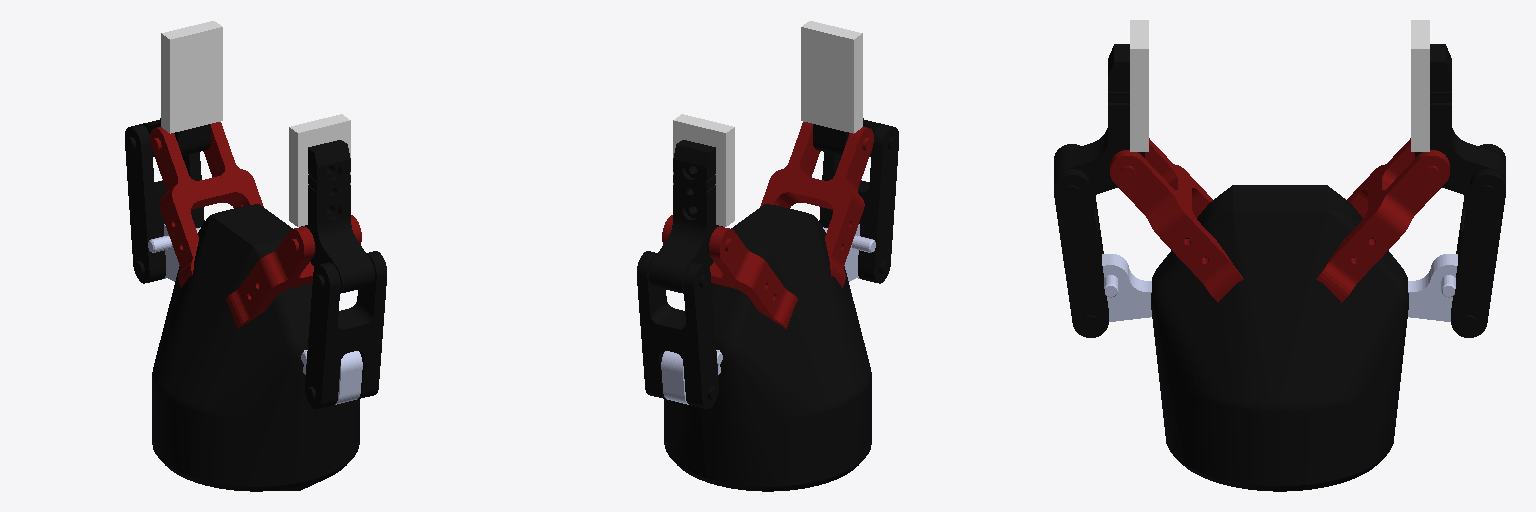
The robot description file, URDF, robot "robotiq_arg2f_85_model":
<?xml version="1.0" ?>
<!-- =================================================================================== -->
<!-- |    This document was autogenerated by xacro from robotiq_arg2f_85_model.xacro   | -->
<!-- |    EDITING THIS FILE BY HAND IS NOT RECOMMENDED                                 | -->
<!-- =================================================================================== -->
<robot name="robotiq_arg2f_85_model">
  <link name="robotiq_arg2f_base_link">
    <inertial>
      <origin rpy="0 0 0" xyz="8.625E-08 -4.6583E-06 0.03145"/>
      <mass value="0.22652"/>
      <inertia ixx="0.00020005" ixy="-4.2442E-10" ixz="-2.9069E-10" iyy="0.00017832" iyz="-3.4402E-08" izz="0.00013478"/>
    </inertial>
    <visual>
      <origin rpy="0 0 0" xyz="0 0 0"/>
      <geometry>
        <mesh filename="../meshes/visual/robotiq_arg2f_85_base_link.obj"/>
      </geometry>
      <material name="">
        <color rgba="0.1 0.1 0.1 1"/>
      </material>
    </visual>
    <collision>
      <origin rpy="0 0 0" xyz="0 0 0"/>
      <geometry>
        <mesh filename="../meshes/collision/robotiq_arg2f_base_link.obj"/>
      </geometry>
    </collision>
  </link>
  <link name="left_outer_knuckle">
    <inertial>
        <origin xyz="-0.000200000000003065 0.0199435877845359 0.0292245259211331" rpy="0 0 0" />
        <mass value="0.00853198276973456" />
        <inertia ixx="2.89328108496468E-06" ixy="-1.57935047237397E-19" ixz="-1.93980378593255E-19" iyy="1.86719750325683E-06" iyz="-1.21858577871576E-06" izz="1.21905238907251E-06" />
        </inertial>
    <visual>
      <origin rpy="0 0 0" xyz="0 0 0"/>
      <geometry>
        <mesh filename="../meshes/visual/robotiq_arg2f_85_outer_knuckle.obj" scale="0.001 0.001 0.001"/>
      </geometry>
      <material name="">
        <color rgba="0.792156862745098 0.819607843137255 0.933333333333333 1"/>
      </material>
    </visual>
    <collision>
      <origin rpy="0 0 0" xyz="0 0 0"/>
      <geometry>
        <mesh filename="../meshes/collision/robotiq_arg2f_85_outer_knuckle.obj" scale="0.001 0.001 0.001"/>
      </geometry>
    </collision>
  </link>
  <link name="left_outer_finger">
    <inertial>
        <origin xyz="0.00030115855001899 0.0373907951953854 -0.0208027427000385" rpy="0 0 0" />
        <mass value="0.022614240507152" />
        <inertia ixx="1.52518312458174E-05" ixy="9.76583423954399E-10" ixz="-5.43838577022588E-10" iyy="6.17694243867776E-06" iyz="6.78636130740228E-06" izz="1.16494917907219E-05" />
        </inertial>
    <visual>
      <origin rpy="0 0 0" xyz="0 0 0"/>
      <geometry>
        <mesh filename="../meshes/visual/robotiq_arg2f_85_outer_finger.obj" scale="0.001 0.001 0.001"/>
      </geometry>
      <material name="">
        <color rgba="0.1 0.1 0.1 1"/>
      </material>
    </visual>
    <collision>
      <origin rpy="0 0 0" xyz="0 0 0"/>
      <geometry>
        <mesh filename="../meshes/collision/robotiq_arg2f_85_outer_finger.obj" scale="0.001 0.001 0.001"/>
      </geometry>
    </collision>
  </link>
  <link name="left_inner_finger">
    <inertial>
        <origin xyz="0.000299999999999317 0.0160078233491243 -0.0136945669206257" rpy="0 0 0" />
        <mass value="0.0104003125914103" />
        <inertia ixx="2.71909453810972E-06" ixy="1.35402465472579E-21" ixz="-7.1817349065269E-22" iyy="7.69100314106116E-07" iyz="6.74715432769696E-07" izz="2.30315190420171E-06" />
        </inertial>
    <visual>
      <origin rpy="0 0 0" xyz="0 0 0"/>
      <geometry>
        <mesh filename="../meshes/visual/robotiq_arg2f_85_inner_finger.obj" scale="0.001 0.001 0.001"/>
      </geometry>
      <material name="">
        <color rgba="0.1 0.1 0.1 0.5"/>
      </material>
    </visual>
    <collision>
      <origin rpy="0 0 0" xyz="0 0 0"/>
      <geometry>
        <mesh filename="../meshes/collision/robotiq_arg2f_85_inner_finger.obj" scale="0.001 0.001 0.001"/>
      </geometry>
    </collision>
  </link>
  <link name="left_inner_finger_pad">
    <visual>
      <origin rpy="0 0 0" xyz="0 0 0"/>
      <geometry>
        <box size="0.022 0.00635 0.0375"/>
      </geometry>
      <material name="">
        <color rgba="0.9 0.9 0.9 1"/>
      </material>
    </visual>
    <collision>
      <origin rpy="0 0 0" xyz="0 0 0"/>
      <geometry>
        <box size="0.022 0.00635 0.0375"/>
      </geometry>
      <material name="">
        <color rgba="0.9 0.0 0.0 1"/>
      </material>
    </collision>
  </link>
  <link name="left_inner_knuckle">
    <inertial>
        <origin xyz="0.000123011831763771 0.0507850843201817 0.00103968640075166" rpy="0 0 0" />
       <mass value="0.0271177346495152" />
        <inertia ixx="2.61910379223783E-05" ixy="-2.43616858946494E-07" ixz="-6.37789906117123E-09" iyy="2.8270243746167E-06" iyz="-5.37200748039765E-07" izz="2.83695868220296E-05" />
        </inertial>
    <visual>
      <origin rpy="0 0 0" xyz="0 0 0"/>
      <geometry>
        <mesh filename="../meshes/visual/robotiq_arg2f_85_inner_knuckle.obj" scale="0.001 0.001 0.001"/>
      </geometry>
      <material name="">
        <color rgba="0.5 0.1 0.1 0.5"/>
      </material>
    </visual>
    <!--
    <collision>
      <origin rpy="0 0 0" xyz="0 0 0"/>
      <geometry>
        <mesh filename="../meshes/collision/robotiq_arg2f_85_inner_knuckle.obj" scale="0.001 0.001 0.001"/>
      </geometry>
    </collision>
    -->
  </link>
  <link name="right_outer_knuckle">
    <inertial>
        <origin xyz="-0.000200000000003065 0.0199435877845359 0.0292245259211331" rpy="0 0 0" />
        <mass value="0.00853198276973456" />
        <inertia ixx="2.89328108496468E-06" ixy="-1.57935047237397E-19" ixz="-1.93980378593255E-19" iyy="1.86719750325683E-06" iyz="-1.21858577871576E-06" izz="1.21905238907251E-06" />
        </inertial>
    <visual>
      <origin rpy="0 0 0" xyz="0 0 0"/>
      <geometry>
        <mesh filename="../meshes/visual/robotiq_arg2f_85_outer_knuckle.obj" scale="0.001 0.001 0.001"/>
      </geometry>
      <material name="">
        <color rgba="0.792156862745098 0.819607843137255 0.933333333333333 1"/>
      </material>
    </visual>
    <collision>
      <origin rpy="0 0 0" xyz="0 0 0"/>
      <geometry>
        <mesh filename="../meshes/collision/robotiq_arg2f_85_outer_knuckle.obj" scale="0.001 0.001 0.001"/>
      </geometry>
    </collision>
  </link>
  <link name="right_outer_finger">
    <inertial>
        <origin xyz="0.00030115855001899 0.0373907951953854 -0.0208027427000385" rpy="0 0 0" />
        <mass value="0.022614240507152" />
        <inertia ixx="1.52518312458174E-05" ixy="9.76583423954399E-10" ixz="-5.43838577022588E-10" iyy="6.17694243867776E-06" iyz="6.78636130740228E-06" izz="1.16494917907219E-05" />
        </inertial>
    <visual>
      <origin rpy="0 0 0" xyz="0 0 0"/>
      <geometry>
        <mesh filename="../meshes/visual/robotiq_arg2f_85_outer_finger.obj" scale="0.001 0.001 0.001"/>
      </geometry>
      <material name="">
        <color rgba="0.1 0.1 0.1 1"/>
      </material>
    </visual>
    <collision>
      <origin rpy="0 0 0" xyz="0 0 0"/>
      <geometry>
        <mesh filename="../meshes/collision/robotiq_arg2f_85_outer_finger.obj" scale="0.001 0.001 0.001"/>
      </geometry>
    </collision>
  </link>
  <link name="right_inner_finger">
    <inertial>
        <origin xyz="0.000299999999999317 0.0160078233491243 -0.0136945669206257" rpy="0 0 0" />
        <mass value="0.0104003125914103" />
        <inertia ixx="2.71909453810972E-06" ixy="1.35402465472579E-21" ixz="-7.1817349065269E-22" iyy="7.69100314106116E-07" iyz="6.74715432769696E-07" izz="2.30315190420171E-06" />
        </inertial>
    <visual>
      <origin rpy="0 0 0" xyz="0 0 0"/>
      <geometry>
        <mesh filename="../meshes/visual/robotiq_arg2f_85_inner_finger.obj" scale="0.001 0.001 0.001"/>
      </geometry>
      <material name="">
        <color rgba="0.1 0.1 0.1 1"/>
      </material>
    </visual>
    <collision>
      <origin rpy="0 0 0" xyz="0 0 0"/>
      <geometry>
        <mesh filename="../meshes/collision/robotiq_arg2f_85_inner_finger.obj" scale="0.001 0.001 0.001"/>
      </geometry>
    </collision>
  </link>
  <link name="right_inner_finger_pad">
    <visual>
      <origin rpy="0 0 0" xyz="0 0 0"/>
      <geometry>
        <box size="0.022 0.00635 0.0375"/>
      </geometry>
      <material name="">
        <color rgba="0.9 0.9 0.9 1"/>
      </material>
    </visual>
    <collision>
      <origin rpy="0 0 0" xyz="0 0 0"/>
      <geometry>
        <box size="0.022 0.00635 0.0375"/>
      </geometry>
      <material name="">
        <color rgba="0.9 0.0 0.0 1"/>
      </material>
    </collision>
  </link>
  <link name="right_inner_knuckle">
    <inertial>
        <origin xyz="0.000123011831763771 0.0507850843201817 0.00103968640075166" rpy="0 0 0" />
       <mass value="0.0271177346495152" />
        <inertia ixx="2.61910379223783E-05" ixy="-2.43616858946494E-07" ixz="-6.37789906117123E-09" iyy="2.8270243746167E-06" iyz="-5.37200748039765E-07" izz="2.83695868220296E-05" />
        </inertial> 
    <visual>
      <origin rpy="0 0 0" xyz="0 0 0"/>
      <geometry>
        <mesh filename="../meshes/visual/robotiq_arg2f_85_inner_knuckle.obj" scale="0.001 0.001 0.001"/>
      </geometry>
      <material name="">
        <color rgba="0.5 0.1 0.1 1"/>
      </material>
    </visual>
    <!--
    <collision>
      <origin rpy="0 0 0" xyz="0 0 0"/>
      <geometry>
        <mesh filename="../meshes/collision/robotiq_arg2f_85_inner_knuckle.obj" scale="0.001 0.001 0.001"/>
      </geometry>
    </collision>
    -->
  </link>
  <joint name="finger_joint" type="revolute">
    <origin rpy="0 0 3.141592653589793" xyz="0 -0.0306011 0.054904"/>
    <parent link="robotiq_arg2f_base_link"/>
    <child link="left_outer_knuckle"/>
    <axis xyz="1 0 0"/>
    <limit effort="1000" lower="0" upper="0.8" velocity="2.0"/>
  </joint>
  <joint name="left_outer_finger_joint" type="fixed">
    <origin rpy="0 0 0" xyz="0 0.0315 -0.0041"/>
    <parent link="left_outer_knuckle"/>
    <child link="left_outer_finger"/>
    <axis xyz="1 0 0"/>
  </joint>
  <joint name="left_inner_knuckle_joint" type="revolute">
    <!-- <origin xyz="0 ${reflect * -0.0127} 0.06142" rpy="${pi / 2 + .725} 0 ${(reflect - 1) * pi / 2}" /> -->
    <origin rpy="0 0 3.141592653589793" xyz="0 -0.0127 0.06142"/>
    <parent link="robotiq_arg2f_base_link"/>
    <child link="left_inner_knuckle"/>
    <axis xyz="1 0 0"/>
    <limit effort="1000" lower="0" upper="0.8757" velocity="2.0"/>
    <mimic joint="finger_joint" multiplier="1" offset="0"/>
  </joint>
  <joint name="left_inner_finger_joint" type="revolute">
    <origin rpy="0 0 0" xyz="0 0.0061 0.0471"/>
    <parent link="left_outer_finger"/>
    <child link="left_inner_finger"/>
    <axis xyz="1 0 0"/>
    <limit effort="1000" lower="-0.8757" upper="0" velocity="2.0"/>
    <mimic joint="finger_joint" multiplier="-1" offset="0"/>
  </joint>
  <joint name="left_inner_finger_pad_joint" type="fixed">
    <origin rpy="0 0 0" xyz="0 -0.0220203446692936 0.03242"/>
    <parent link="left_inner_finger"/>
    <child link="left_inner_finger_pad"/>
    <axis xyz="0 0 1"/>
  </joint>
  <joint name="right_outer_knuckle_joint" type="revolute">
    <origin rpy="0 0 0" xyz="0 0.0306011 0.054904"/>
    <parent link="robotiq_arg2f_base_link"/>
    <child link="right_outer_knuckle"/>
    <axis xyz="1 0 0"/>
    <limit effort="1000" lower="0" upper="0.81" velocity="2.0"/>
    <mimic joint="finger_joint" multiplier="1" offset="0"/>
  </joint>
  <joint name="right_outer_finger_joint" type="fixed">
    <origin rpy="0 0 0" xyz="0 0.0315 -0.0041"/>
    <parent link="right_outer_knuckle"/>
    <child link="right_outer_finger"/>
    <axis xyz="1 0 0"/>
  </joint>
  <joint name="right_inner_knuckle_joint" type="revolute">
    <!-- <origin xyz="0 ${reflect * -0.0127} 0.06142" rpy="${pi / 2 + .725} 0 ${(reflect - 1) * pi / 2}" /> -->
    <origin rpy="0 0 0.0" xyz="0 0.0127 0.06142"/>
    <parent link="robotiq_arg2f_base_link"/>
    <child link="right_inner_knuckle"/>
    <axis xyz="1 0 0"/>
    <limit effort="1000" lower="0" upper="0.8757" velocity="2.0"/>
    <mimic joint="finger_joint" multiplier="1" offset="0"/>
  </joint>
  <joint name="right_inner_finger_joint" type="revolute">
    <origin rpy="0 0 0" xyz="0 0.0061 0.0471"/>
    <parent link="right_outer_finger"/>
    <child link="right_inner_finger"/>
    <axis xyz="1 0 0"/>
    <limit effort="1000" lower="-0.8757" upper="0" velocity="2.0"/>
    <mimic joint="finger_joint" multiplier="-1" offset="0"/>
  </joint>
  <joint name="right_inner_finger_pad_joint" type="fixed">
    <origin rpy="0 0 0" xyz="0 -0.0220203446692936 0.03242"/>
    <parent link="right_inner_finger"/>
    <child link="right_inner_finger_pad"/>
    <axis xyz="0 0 1"/>
  </joint>
  <transmission name="finger_joint_trans">
    <type>transmission_interface/SimpleTransmission</type>
    <joint name="finger_joint">
      <hardwareInterface>PositionJointInterface</hardwareInterface>
    </joint>
    <actuator name="finger_joint_motor">
      <mechanicalReduction>1</mechanicalReduction>
    </actuator>
  </transmission>
  <transmission name="right_outer_knuckle_trans">
    <type>transmission_interface/SimpleTransmission</type>
    <joint name="right_outer_knuckle_joint">
      <hardwareInterface>PositionJointInterface</hardwareInterface>
    </joint>
    <actuator name="right_outer_knuckle_motor">
      <mechanicalReduction>1</mechanicalReduction>
    </actuator>
  </transmission>
</robot>

--- Render facts (derived) ---
3 views of the same robot in one strip: view 1: azimuth 30°, elevation 25°; view 2: azimuth 150°, elevation 25°; view 3: azimuth 270°, elevation 25° (orthographic).
Robot: robotiq_arg2f_85_model — 11 links, 10 joints (6 revolute, 4 fixed); root link robotiq_arg2f_base_link; default pose: every joint at zero.
Links seen in each view (by area): view 1: robotiq_arg2f_base_link, left_outer_finger, right_inner_knuckle, left_inner_finger, right_inner_finger_pad, right_outer_finger, left_inner_knuckle, left_inner_finger_pad, left_outer_knuckle, right_inner_finger, right_outer_knuckle; view 2: robotiq_arg2f_base_link, right_outer_finger, left_inner_knuckle, right_inner_finger, left_inner_finger_pad, left_outer_finger, right_inner_knuckle, right_inner_finger_pad, right_outer_knuckle, left_inner_finger, left_outer_knuckle; view 3: robotiq_arg2f_base_link, left_inner_knuckle, right_inner_knuckle, left_outer_finger, right_outer_finger, left_inner_finger, right_inner_finger, left_inner_finger_pad, right_inner_finger_pad, left_outer_knuckle, right_outer_knuckle.
Link boxes in pixels (x1,y1,x2,y2): robotiq_arg2f_base_link: (152,204,359,491); left_outer_finger: (305,251,386,408); right_inner_knuckle: (150,122,263,287); left_inner_finger: (301,140,374,293); right_inner_finger_pad: (161,21,222,133); right_outer_finger: (125,124,204,283); left_inner_knuckle: (226,215,361,328); left_inner_finger_pad: (289,114,350,226); left_outer_knuckle: (301,350,362,404); right_inner_finger: (142,118,210,156); right_outer_knuckle: (148,224,200,281); robotiq_arg2f_base_link: (664,204,871,491); right_outer_finger: (637,251,718,408); left_inner_knuckle: (760,122,873,287); right_inner_finger: (649,140,722,293); left_inner_finger_pad: (801,21,862,133); left_outer_finger: (819,124,898,283); right_inner_knuckle: (662,215,797,328); right_inner_finger_pad: (673,114,734,226); right_outer_knuckle: (661,350,722,404); left_inner_finger: (813,118,881,156); left_outer_knuckle: (823,224,875,281); robotiq_arg2f_base_link: (1151,185,1408,491); left_inner_knuckle: (1110,138,1243,302); right_inner_knuckle: (1316,138,1449,302); left_outer_finger: (1054,144,1108,337); right_outer_finger: (1451,144,1505,337); left_inner_finger: (1054,44,1144,195); right_inner_finger: (1415,44,1505,195); left_inner_finger_pad: (1130,20,1148,151); right_inner_finger_pad: (1411,20,1429,151); left_outer_knuckle: (1102,254,1151,321); right_outer_knuckle: (1408,254,1457,321).
Size in the robot's own frame: 0.075 by 0.1484 by 0.1518 metres.
Meshes: 5 distinct files referenced, 9 mesh visuals loaded (5 OBJ).